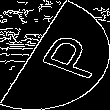P_NW: (14, 27, 96, 83)
